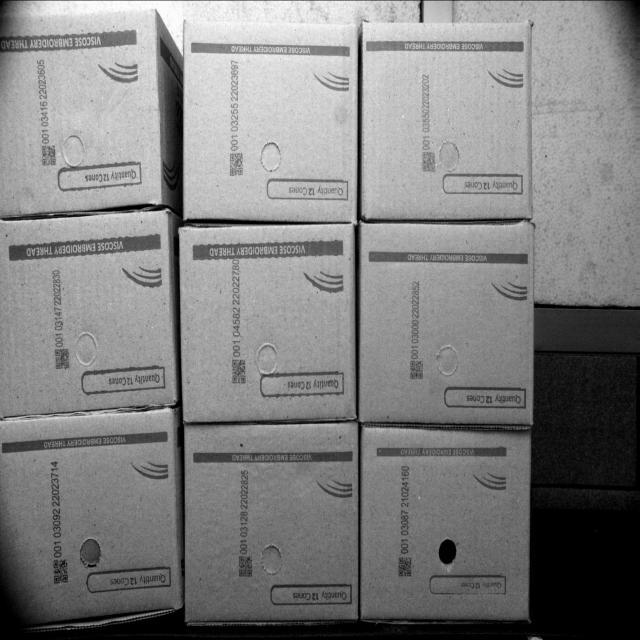box: (0, 419, 182, 628), (0, 212, 180, 410), (183, 17, 356, 216), (0, 10, 170, 208), (180, 228, 356, 418), (364, 226, 532, 423), (186, 426, 359, 617), (363, 432, 532, 622), (367, 24, 532, 212)
